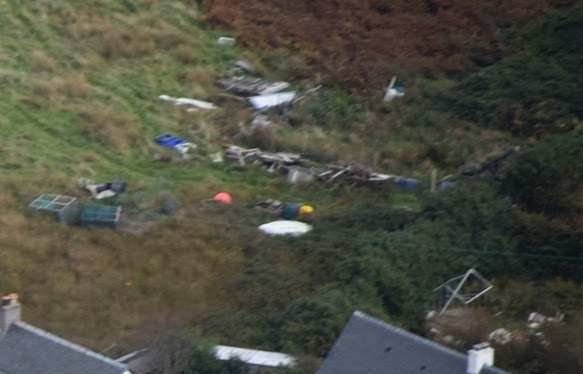cuboid: (22, 187, 80, 230), (73, 197, 128, 230)
scattered_barrel: (198, 182, 322, 243)
straight_bar: (154, 87, 221, 113)
together_barrel: (153, 124, 448, 189), (211, 33, 321, 109), (79, 172, 131, 202)
white_in_green: (207, 341, 307, 374), (365, 63, 422, 116)
